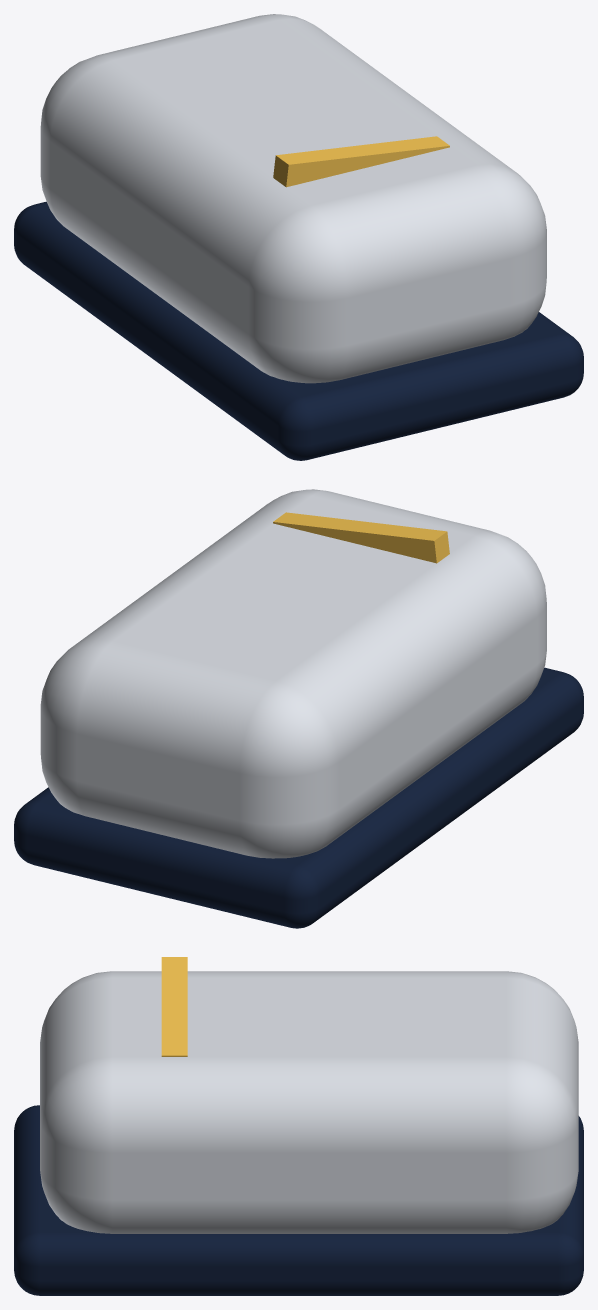
The model's file is indoor-flats.glb.
3 renders of one model, top to bottom at view 1: azimuth 30°, elevation 25°; view 2: azimuth 150°, elevation 25°; view 3: azimuth 270°, elevation 25°, orthographic.
Parts seen in each view (by area): view 1: feet.indoor-flats.upper-l, feet.indoor-flats.sole-l, feet.indoor-flats.lace-2-l; view 2: feet.indoor-flats.upper-l, feet.indoor-flats.sole-l, feet.indoor-flats.lace-2-l; view 3: feet.indoor-flats.upper-l, feet.indoor-flats.sole-l, feet.indoor-flats.lace-2-l.
Part boxes in pixels (x1,y1,x2,y2): feet.indoor-flats.upper-l: [40, 14, 546, 383]; feet.indoor-flats.sole-l: [14, 201, 583, 460]; feet.indoor-flats.lace-2-l: [273, 136, 449, 187]; feet.indoor-flats.upper-l: [40, 489, 546, 858]; feet.indoor-flats.sole-l: [14, 667, 583, 928]; feet.indoor-flats.lace-2-l: [273, 512, 449, 563]; feet.indoor-flats.upper-l: [40, 971, 578, 1233]; feet.indoor-flats.sole-l: [14, 1105, 583, 1295]; feet.indoor-flats.lace-2-l: [161, 957, 187, 1056].
Size of the model in its own units: 0.335 by 0.2507 by 0.55.
